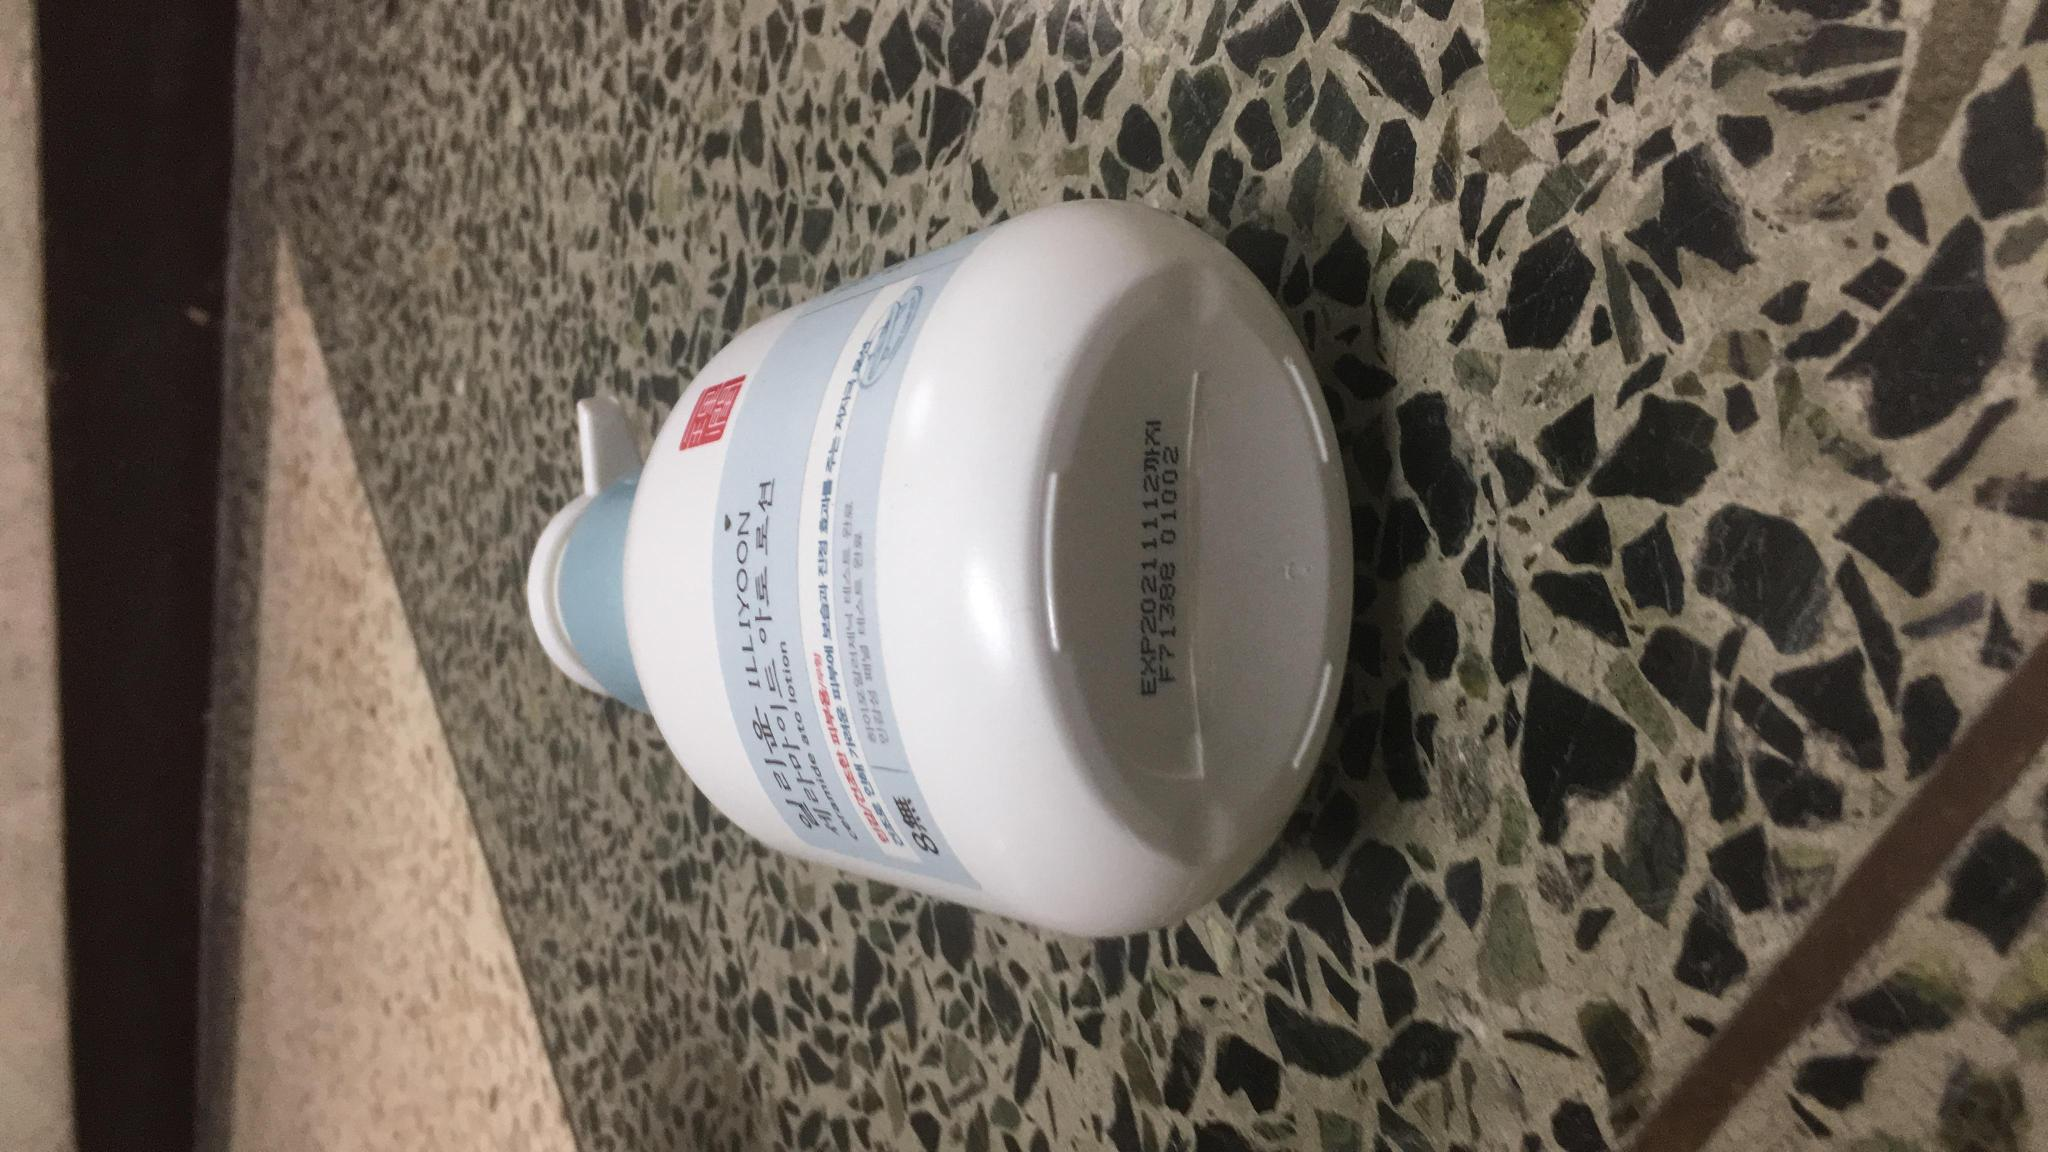bottle: (510, 169, 1370, 953)
